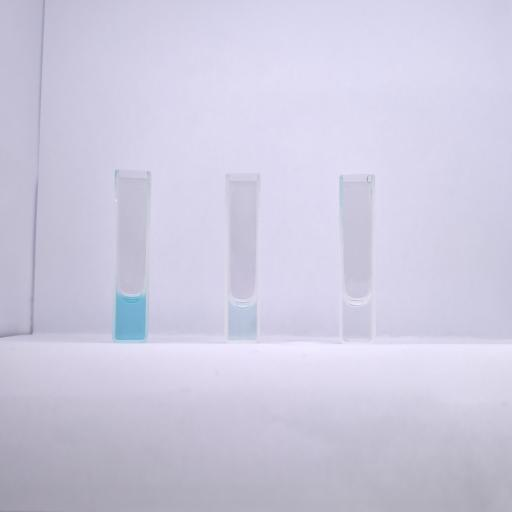cuvette: (111, 167, 153, 345), (338, 172, 378, 346), (224, 171, 262, 345)
liquid: (116, 294, 145, 340), (343, 297, 371, 342), (228, 297, 256, 340)
